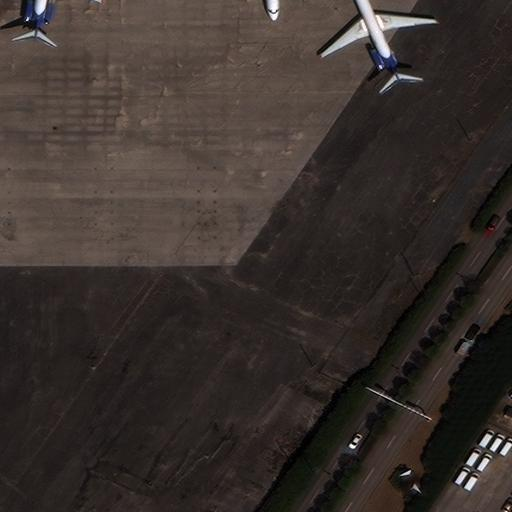Medium Civil Transport: (319, 0, 434, 85), (0, 0, 97, 43)
